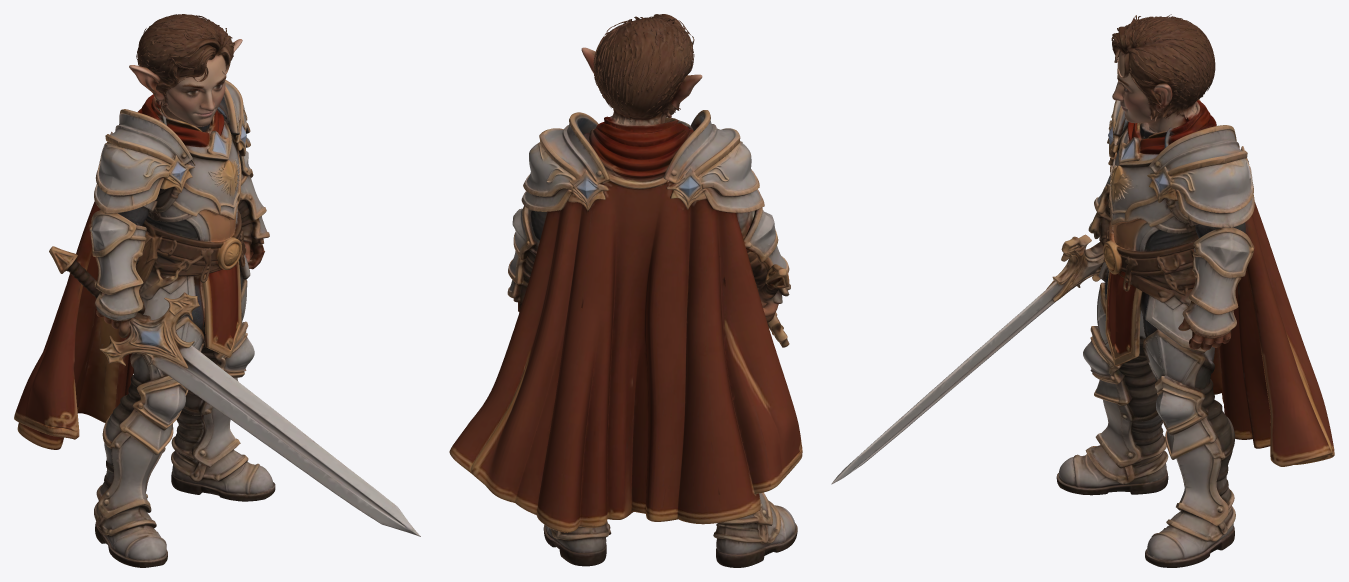
The model's file is halfling_warrior_full_male_01.glb.
The picture shows the model from 3 angles, left to right: view 1: azimuth 30°, elevation 25°; view 2: azimuth 150°, elevation 25°; view 3: azimuth 270°, elevation 25°; orthographic projection. The views are drawn at different scales.
Visible parts, largest first — view 1: material; view 2: material; view 3: material.
Boxes of the visible parts, left/top/right/bottom form: material: left=14, top=14, right=420, bottom=567; material: left=449, top=14, right=802, bottom=567; material: left=831, top=14, right=1334, bottom=567.
Size of the model in its own units: 0.5419 by 0.9954 by 0.9003.
Materials: 1 (1 with a texture image).
